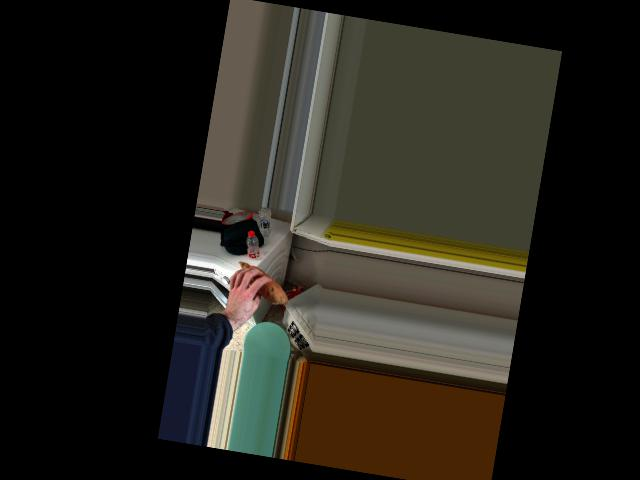sweet_potato: (231, 263, 290, 306)
